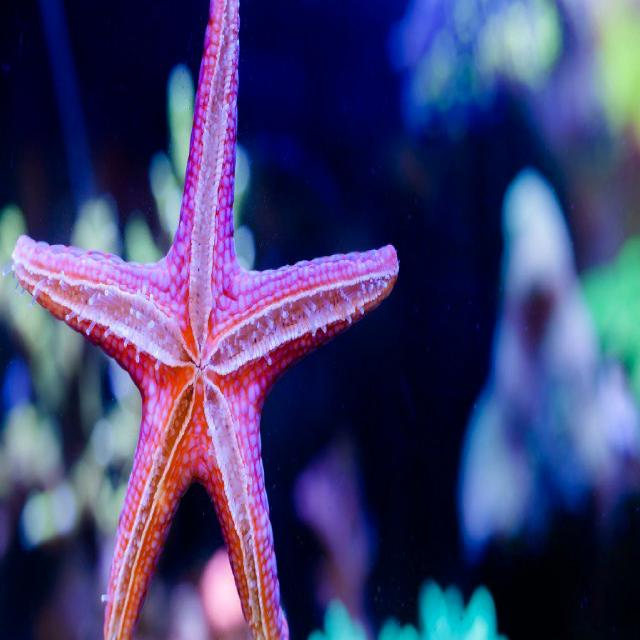starfish: (11, 0, 398, 639)
